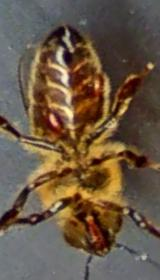varroa_mite: (82, 66, 116, 99), (44, 102, 70, 138)
